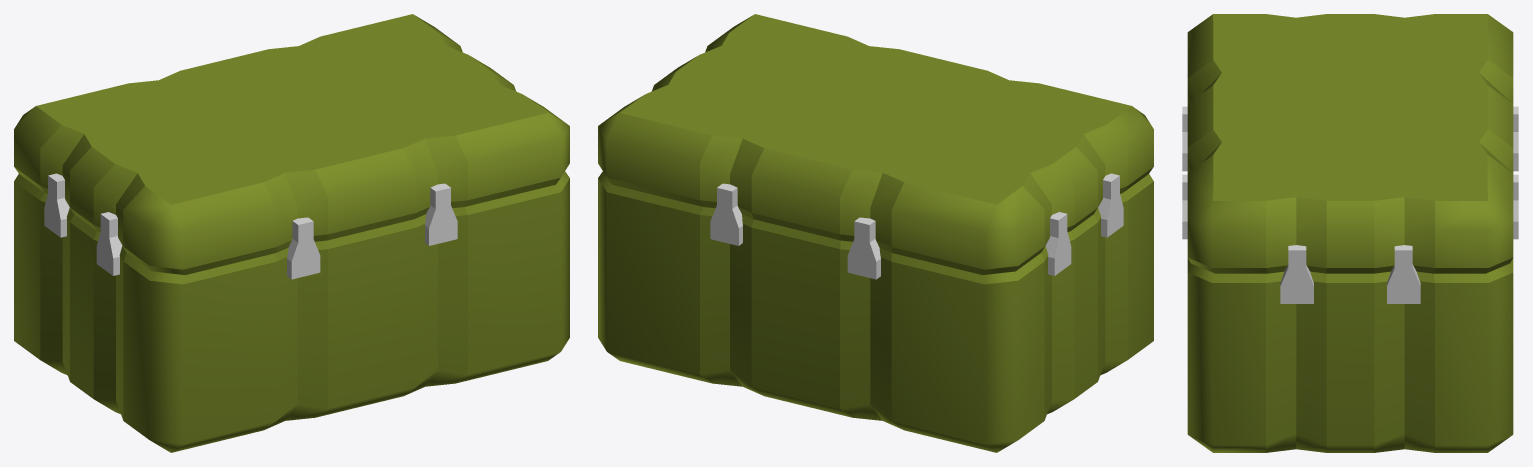
3 renders of one model, left to right at view 1: azimuth 30°, elevation 25°; view 2: azimuth 150°, elevation 25°; view 3: azimuth 270°, elevation 25°, orthographic.
Parts seen in each view (by area): view 1: Box_003; view 2: Box_003; view 3: Box_003.
Part boxes in pixels (box(x1,y1,x2,y2)): Box_003: box(14, 14, 569, 452); Box_003: box(598, 14, 1153, 452); Box_003: box(1182, 14, 1518, 452).
Size of the model in its own units: 1.41 by 0.7844 by 0.9475.
1 material, 1 textured.
